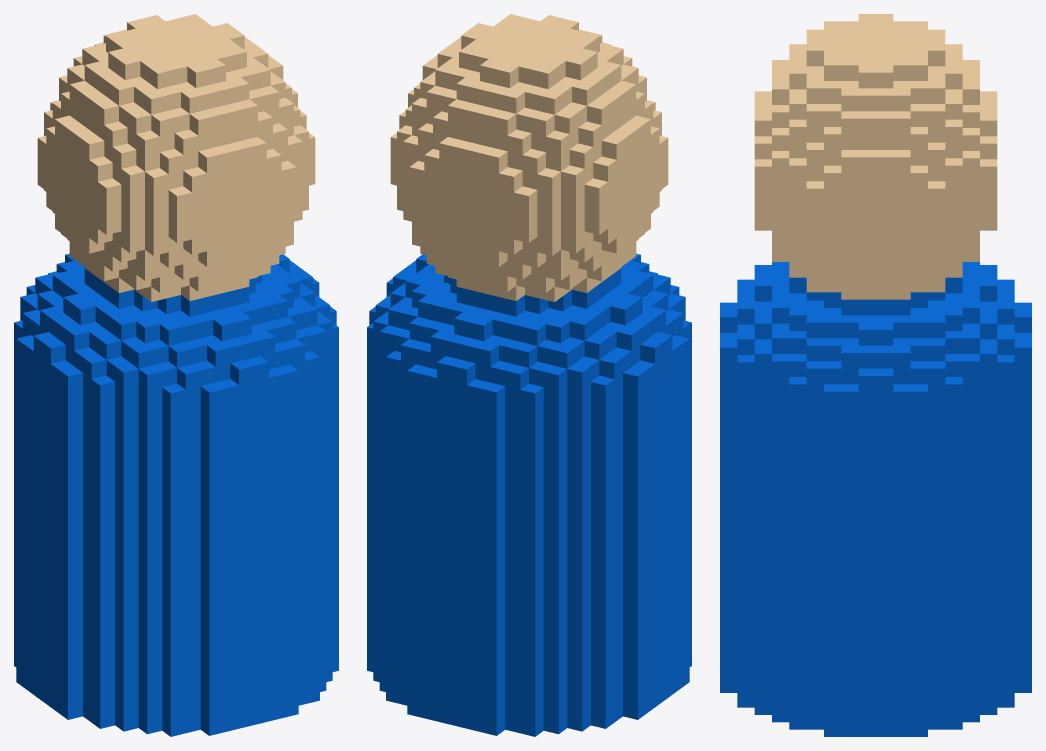
File: Person_1.fbx
3 renders of one model, left to right at view 1: azimuth 30°, elevation 25°; view 2: azimuth 150°, elevation 25°; view 3: azimuth 270°, elevation 25°, orthographic.
Visible parts, largest first — view 1: Person_1; view 2: Person_1; view 3: Person_1.
Boxes of the visible parts, left/top/right/bottom form: Person_1: left=14, top=14, right=338, bottom=736; Person_1: left=367, top=14, right=691, bottom=736; Person_1: left=720, top=14, right=1031, bottom=736.
Size of the model in its own units: 18 by 40 by 18.
1 material, 1 textured.
